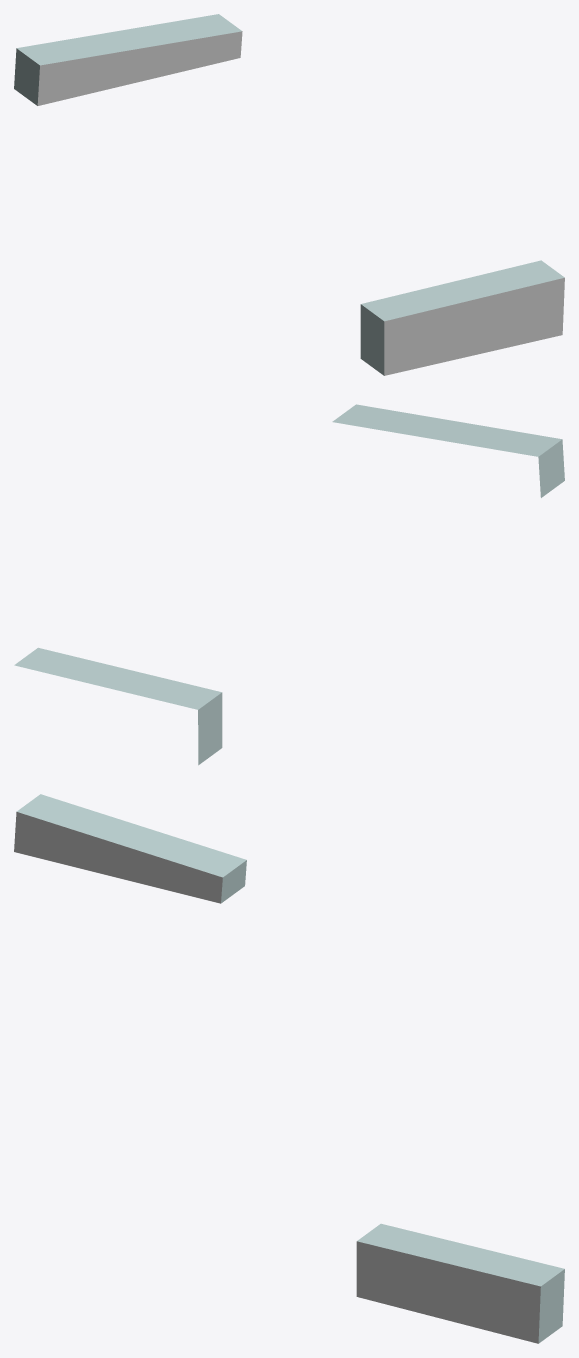
3 views of the same model, one above another, from view 1: azimuth 30°, elevation 25°; view 2: azimuth 150°, elevation 25°; view 3: azimuth 330°, elevation 25° (orthographic).
Visible parts, largest first — view 1: 0_1_0_1_2_2_1_2_1; view 2: 0_1_0_1_2_2_1_2_1; view 3: 0_1_0_1_2_2_1_2_1.
Boxes of the visible parts, <box> form: 0_1_0_1_2_2_1_2_1: <box>14,14,564,375</box>; 0_1_0_1_2_2_1_2_1: <box>14,404,564,765</box>; 0_1_0_1_2_2_1_2_1: <box>14,794,564,1343</box>.
Size of the model in its own units: 38.25 by 27.44 by 3.67.
